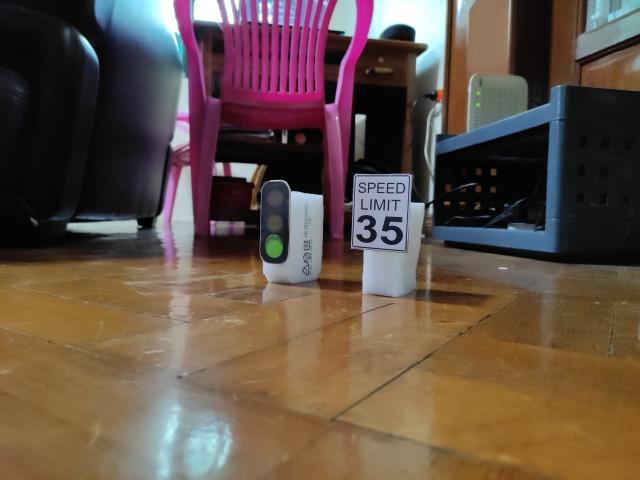Green Traffic Light: (260, 179, 291, 264)
Speed Limit 35: (351, 173, 411, 251)
